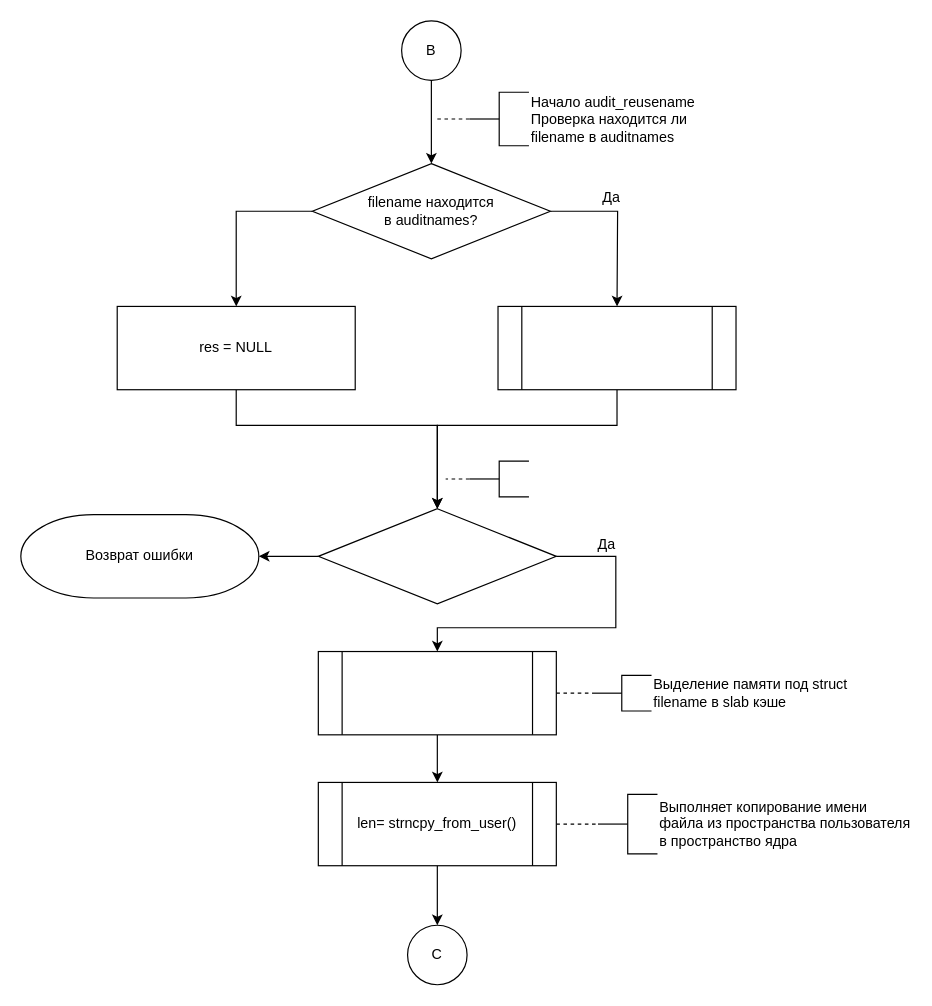
This 932x1006 diagram has some shape labels left out. The shapes that lost their labels are listed below. From the top down, each one's centre as x and y in pixels, then its label:
At point (616, 347): "res = __audit_reusename()".
At point (498, 478): "Конец audit_reusename".
At point (436, 556): "audit_reusename успешно?".
At point (436, 692): "result = _getname()".
